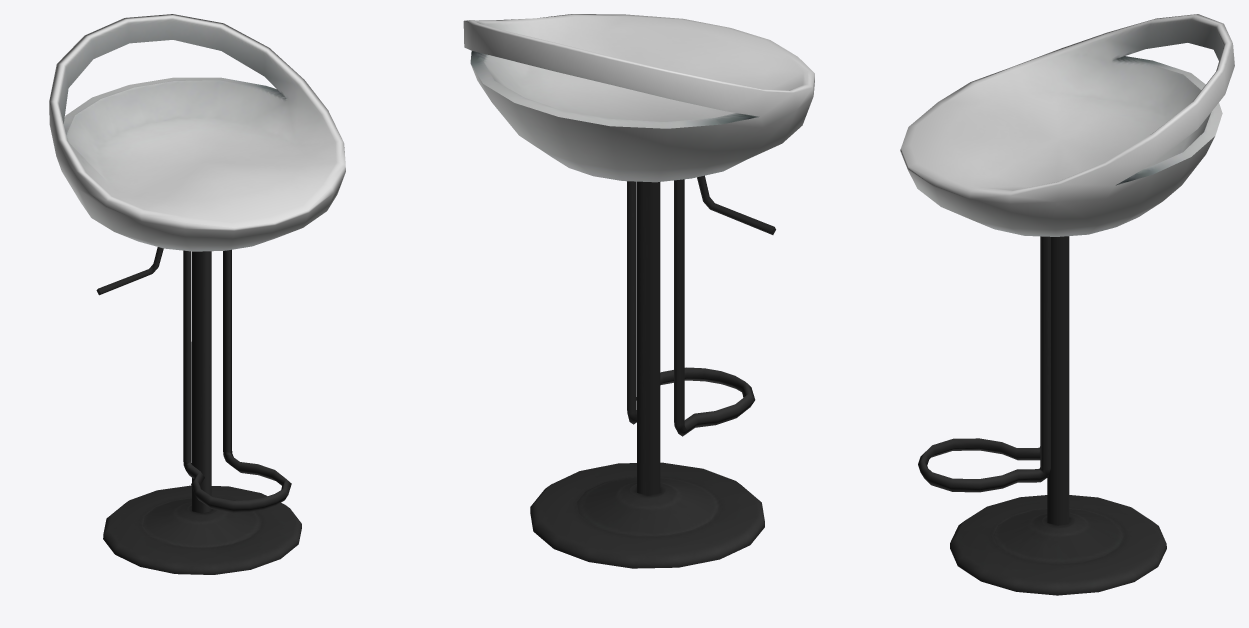
The model's file is bar_chair.DAE.
3 views of the same model, side by side, from view 1: azimuth 30°, elevation 25°; view 2: azimuth 150°, elevation 25°; view 3: azimuth 270°, elevation 25° (orthographic). The views are drawn at different scales.
Visible parts, largest first — view 1: bar_chair; view 2: bar_chair; view 3: bar_chair.
Part boxes in pixels (x1,y1,x2,y2): bar_chair: (49,14,345,574); bar_chair: (463,14,814,568); bar_chair: (900,14,1234,595).
Size of the model in its own units: 446 by 464 by 774.
2 materials, 2 textured.
